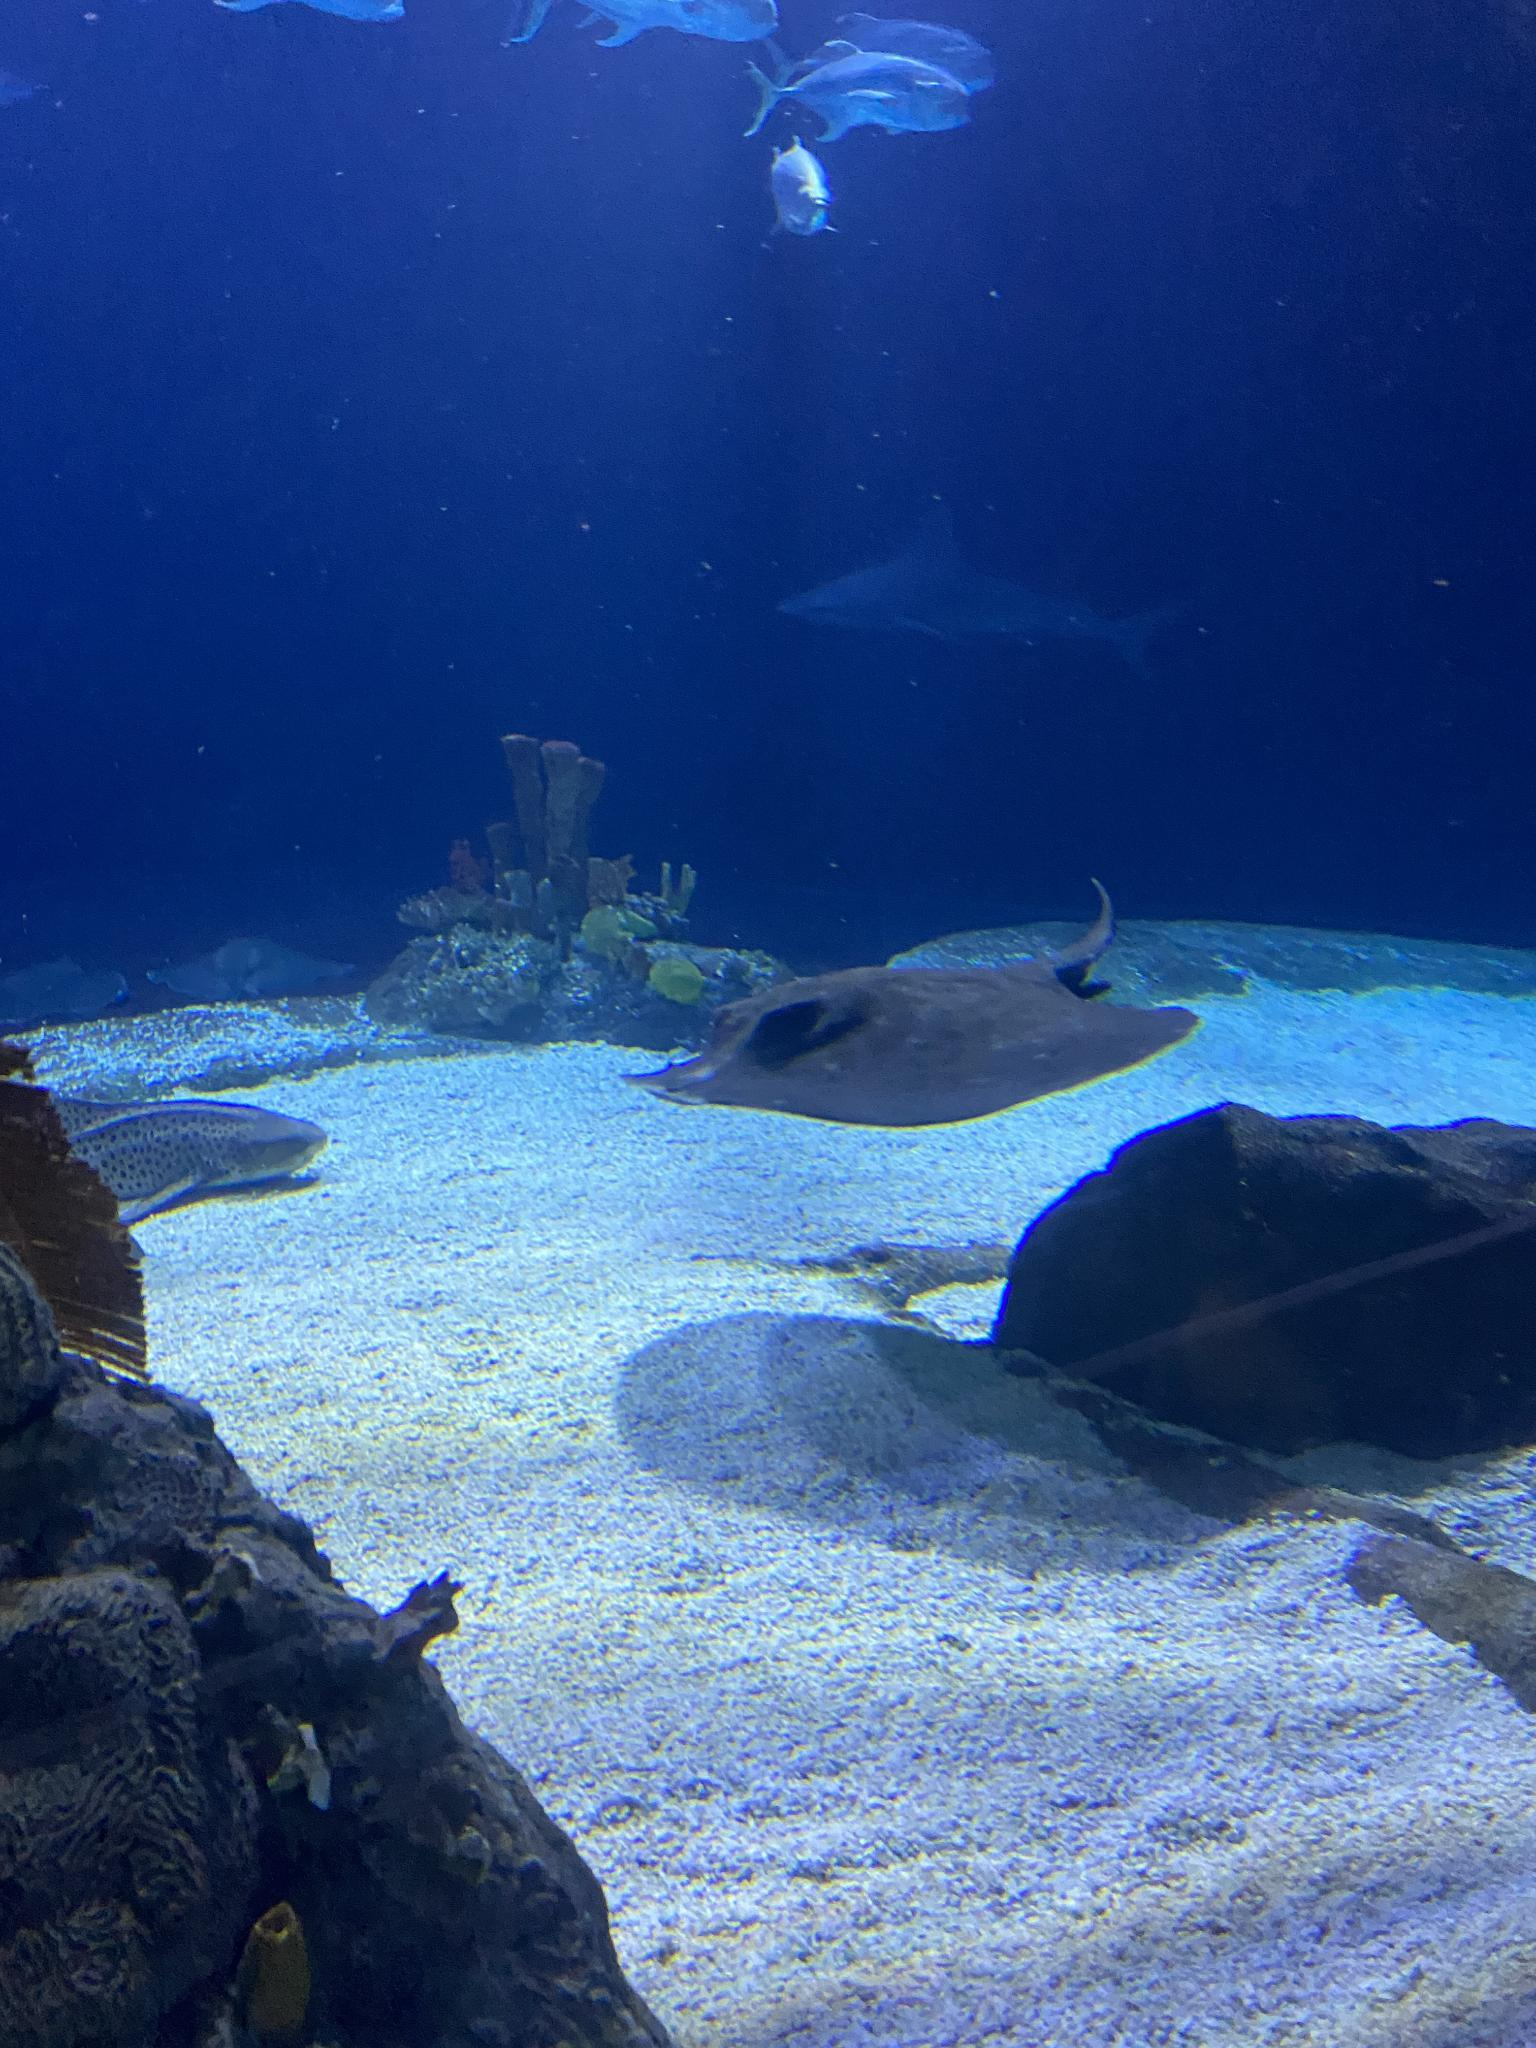fish: (0, 1092, 353, 1200), (760, 60, 970, 142), (837, 13, 1007, 100), (499, 0, 787, 47), (749, 152, 874, 235)
shark: (750, 505, 1170, 677)
stingray: (631, 951, 1176, 1130)
